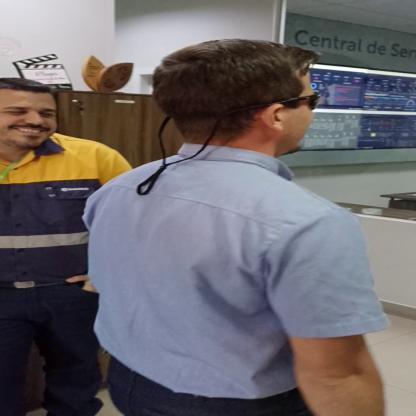Operacional: (0, 140, 87, 289)
